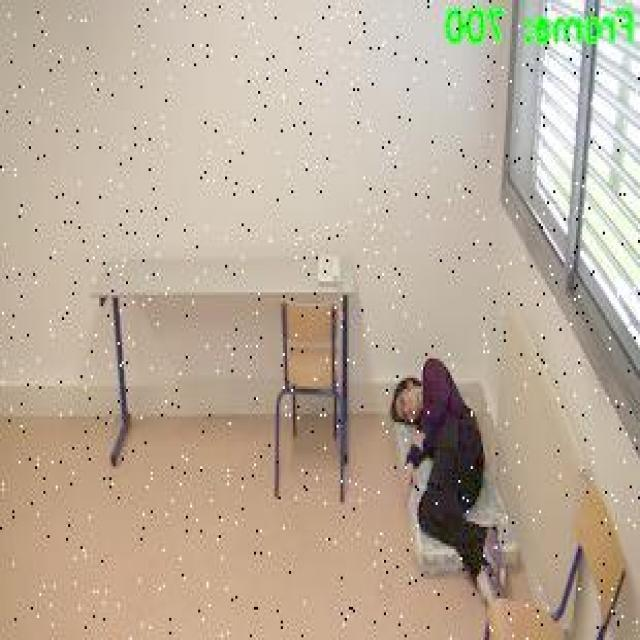fall: (387, 350, 511, 606)
